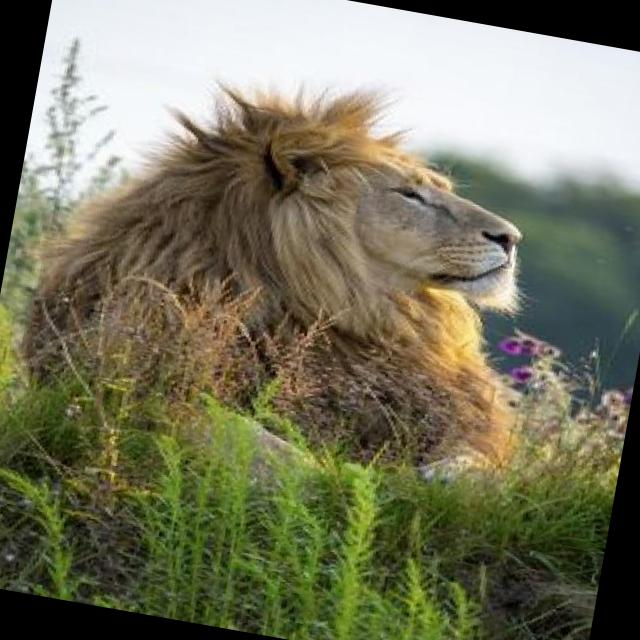lions: (0, 31, 561, 568)
